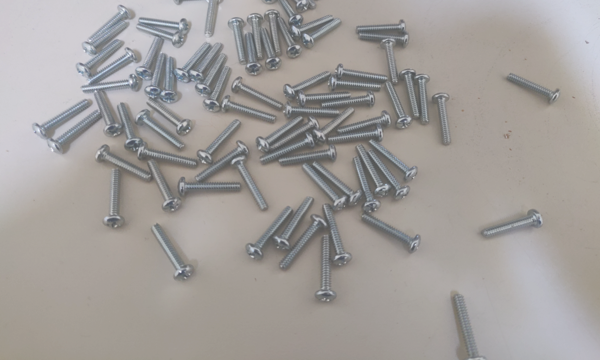longscrew: (249, 206, 295, 260), (149, 226, 192, 283), (137, 159, 180, 216), (281, 216, 324, 270), (298, 164, 347, 210), (314, 161, 363, 206), (362, 215, 421, 252), (276, 194, 314, 249), (137, 108, 183, 153), (370, 139, 420, 180), (34, 96, 87, 134), (324, 202, 353, 269), (196, 144, 248, 181), (370, 150, 409, 199), (454, 297, 484, 360), (311, 233, 339, 300), (52, 112, 100, 151), (86, 49, 135, 86), (77, 40, 126, 77), (83, 16, 132, 53), (139, 143, 195, 175), (83, 3, 131, 40), (95, 150, 151, 181), (506, 69, 559, 101), (235, 159, 267, 212), (146, 99, 193, 135), (104, 170, 132, 230), (233, 76, 287, 106), (222, 97, 276, 127), (482, 211, 544, 237), (201, 119, 240, 160), (349, 158, 378, 212), (359, 142, 388, 196), (257, 117, 302, 150), (274, 118, 319, 151), (315, 105, 356, 141), (284, 67, 333, 97), (339, 110, 393, 137), (262, 135, 314, 163), (282, 142, 336, 168), (331, 126, 385, 152), (117, 103, 145, 153), (177, 40, 212, 80), (190, 40, 225, 80), (93, 92, 122, 140), (194, 55, 228, 95), (201, 68, 235, 108), (137, 22, 186, 48), (386, 83, 412, 129), (302, 19, 345, 46), (291, 13, 338, 36), (178, 179, 245, 195), (81, 76, 140, 94), (433, 94, 452, 148), (327, 76, 386, 92), (227, 15, 246, 63), (242, 29, 261, 77), (247, 9, 266, 57), (262, 27, 281, 75), (280, 17, 302, 58), (337, 62, 387, 80), (146, 52, 164, 100), (267, 7, 285, 55), (402, 69, 418, 122), (402, 69, 418, 121), (139, 15, 190, 31), (139, 35, 157, 80), (162, 56, 179, 103), (357, 20, 408, 35), (362, 29, 413, 44), (295, 91, 356, 103), (320, 94, 381, 106), (283, 104, 344, 116), (276, 0, 304, 26), (204, 0, 223, 38), (384, 36, 398, 87), (278, 0, 308, 10), (285, 0, 315, 5), (262, 0, 275, 6)
